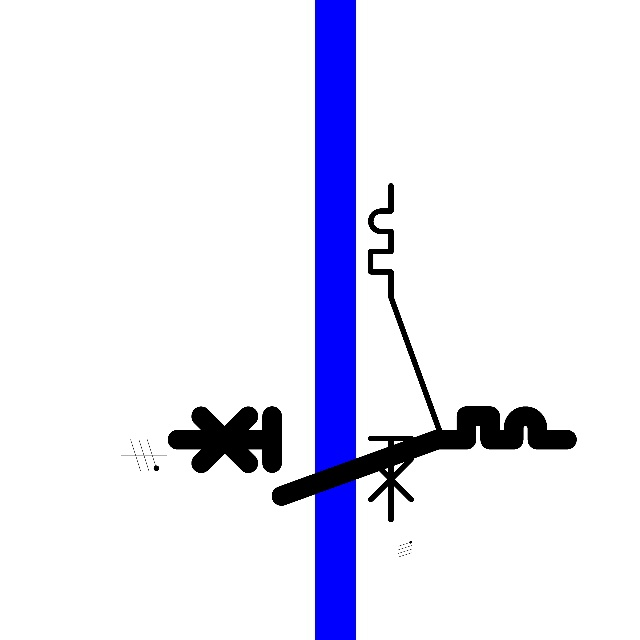interruptor_termomagnetico: (167, 406, 576, 506), (362, 177, 448, 528)
